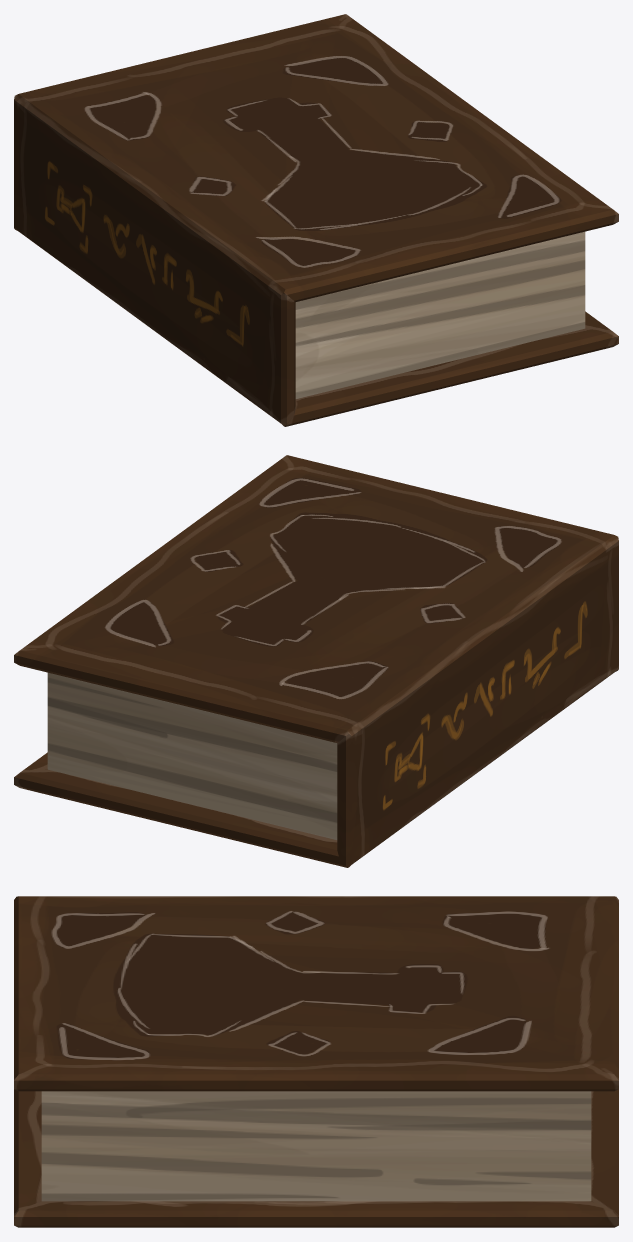
File: Book1.fbx
3 views of the same model, one above another, from view 1: azimuth 30°, elevation 25°; view 2: azimuth 150°, elevation 25°; view 3: azimuth 270°, elevation 25° (orthographic). The views are drawn at different scales.
Parts seen in each view (by area): view 1: Book_2; view 2: Book_2; view 3: Book_2.
Boxes of the visible parts, x1,y1,x2,y2 form: Book_2: (14, 14, 618, 426); Book_2: (14, 455, 618, 867); Book_2: (14, 896, 618, 1227).
Size of the model in its own units: 0.7862 by 0.3076 by 1.1.
